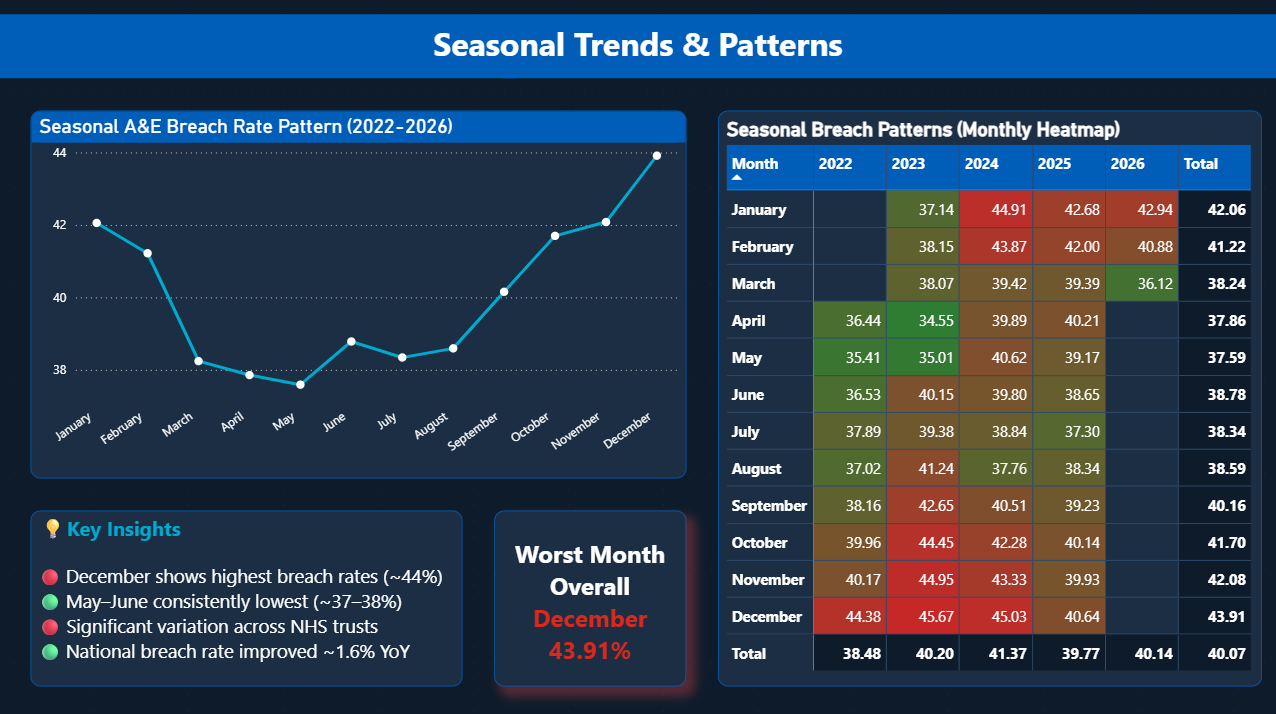

The page's visual inventory and layout, read from the dashboard file:
{"tool":"powerbi","page":{"name":"Seasonal Patterns","canvas":[1280,720],"ordinal":2},"visuals":[{"type":"textbox","box":[0,16,1280,64],"z":0},{"type":"lineChart","title":"Seasonal A&E Breach Rate Pattern (2022-2026)","fields":{"Y":["ae_performance.Avg Monthly Breach Rate"],"Category":["ae_performance.month_date.Variation.Date Hierarchy.Month"]},"box":[32,112,656,368],"z":2000},{"type":"pivotTable","title":"Seasonal Breach Patterns (Monthly Heatmap)","fields":{"Rows":["ae_performance.month_date.Variation.Date Hierarchy.Month"],"Columns":["ae_performance.month_date.Variation.Date Hierarchy.Year"],"Values":["ae_performance.Avg Monthly Breach Rate"]},"box":[720,112,544,576],"z":3000},{"type":"textbox","box":[496,512,192,176],"z":4000},{"type":"textbox","title":"💡Key Insights","box":[32,512,432,176],"z":5000}]}

Visuals, with their boxes in screenshot pixels (x1, y1, x2, y2), scaled from the page's 1280x720 canvas onto the 1276x714 screenshot:
textbox: (x1=0, y1=16, x2=1275, y2=79)
"Seasonal A&E Breach Rate Pattern (2022-2026)" lineChart: (x1=32, y1=111, x2=686, y2=476)
"Seasonal Breach Patterns (Monthly Heatmap)" pivotTable: (x1=718, y1=111, x2=1260, y2=682)
textbox: (x1=494, y1=508, x2=686, y2=682)
"💡Key Insights" textbox: (x1=32, y1=508, x2=463, y2=682)
